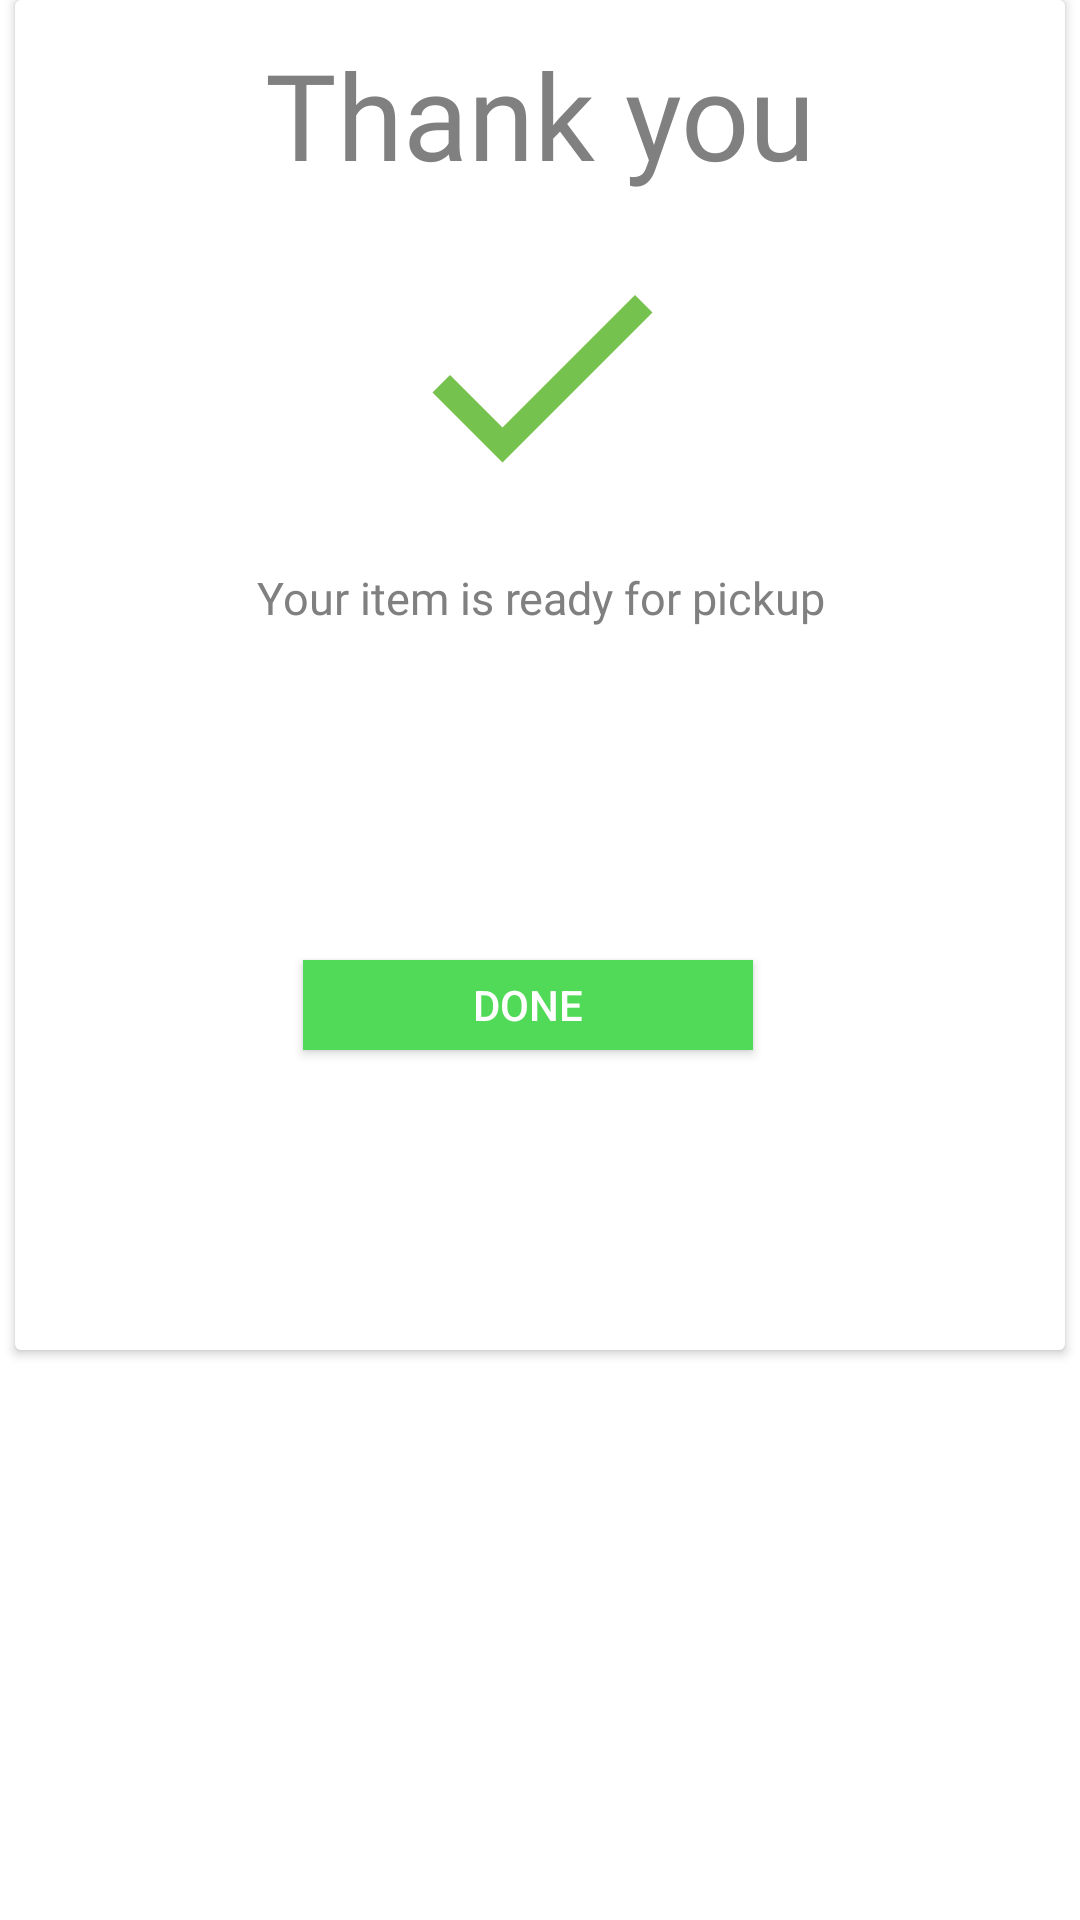

Named icons in this screenshot (1080w x 1920h) and their bounding boxes, {"x1": x1, "y1": y1, "x2": x2, "y2": y2}:
done: {"x1": 432, "y1": 295, "x2": 653, "y2": 463}
